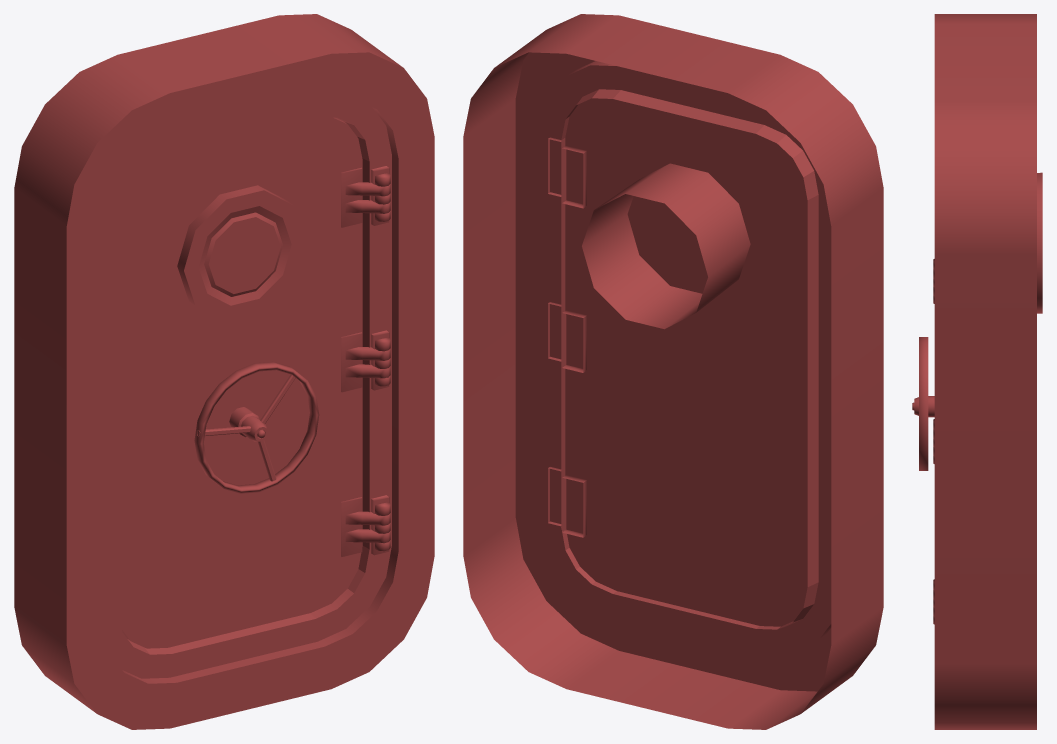
File: ShipDoor.fbx
The picture shows the model from 3 angles, left to right: view 1: azimuth 30°, elevation 25°; view 2: azimuth 150°, elevation 25°; view 3: azimuth 270°, elevation 25°; orthographic projection. The views are drawn at different scales.
Parts seen in each view (by area): view 1: polySurface35; view 2: polySurface35; view 3: polySurface35.
Part boxes in pixels (<box>): polySurface35: <box>14,14,434,729</box>; polySurface35: <box>463,14,883,729</box>; polySurface35: <box>912,14,1042,729</box>.
Bounding box in the file's own units: 252 × 415 × 79.23.
